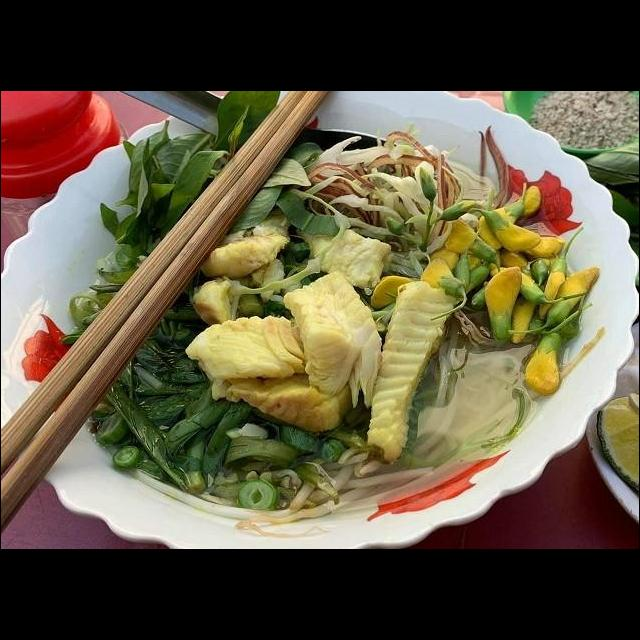bun: (415, 342, 549, 467)
bun ca: (29, 114, 639, 545)
ca: (361, 274, 454, 468), (278, 267, 384, 411), (180, 308, 312, 386), (207, 369, 349, 439), (192, 204, 298, 284), (309, 224, 394, 285)
rau ram: (94, 99, 317, 258), (94, 378, 250, 496)
